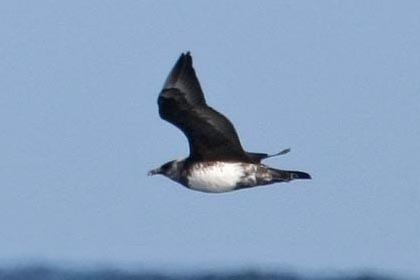bird: (147, 51, 316, 196)
